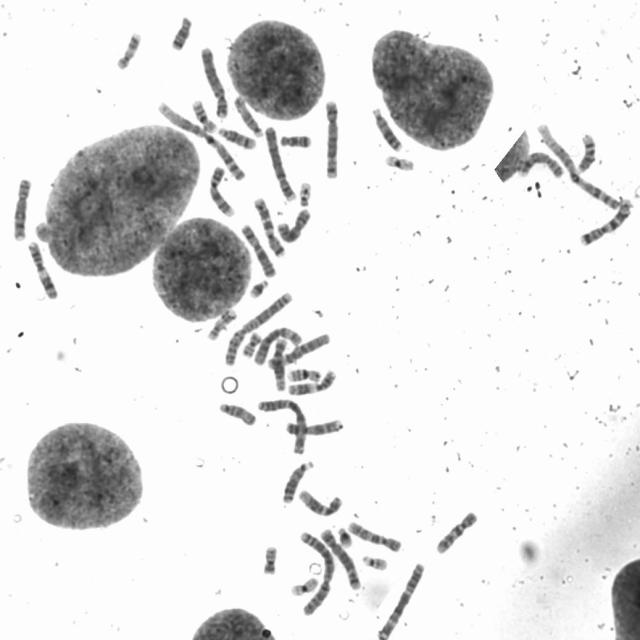A1: (153, 99, 248, 183), (534, 119, 621, 210)
A2: (220, 289, 293, 366), (296, 528, 336, 616)
A3: (374, 560, 426, 639), (255, 395, 308, 457)
B4: (262, 123, 298, 203), (198, 43, 230, 120)
B5: (317, 524, 362, 592), (321, 96, 342, 180)
C10: (432, 508, 478, 556), (345, 518, 403, 554)
C11: (25, 239, 60, 300), (285, 366, 338, 396)
C12: (296, 486, 344, 518), (269, 336, 289, 392)
C6: (267, 330, 331, 368), (250, 323, 304, 366)
C7: (576, 196, 634, 248), (250, 194, 286, 259)
C8: (516, 149, 566, 180), (10, 175, 32, 242)
C9: (207, 163, 236, 219), (282, 416, 345, 437)
D13: (280, 457, 316, 505), (369, 104, 404, 152)
D14: (572, 132, 598, 178), (215, 124, 258, 150)
D15: (232, 92, 264, 138), (216, 399, 257, 428)
E16: (190, 96, 218, 134), (284, 364, 323, 384)
E17: (204, 305, 238, 343), (114, 29, 144, 72)
E18: (167, 13, 195, 52), (278, 131, 313, 151)
F19: (288, 574, 320, 598), (383, 152, 415, 172)
F20: (259, 542, 280, 577), (240, 329, 262, 358)
G21: (246, 277, 270, 300), (335, 524, 353, 549)
G22: (358, 552, 389, 572), (296, 179, 313, 208)
X: (238, 222, 278, 279), (274, 204, 313, 245)
